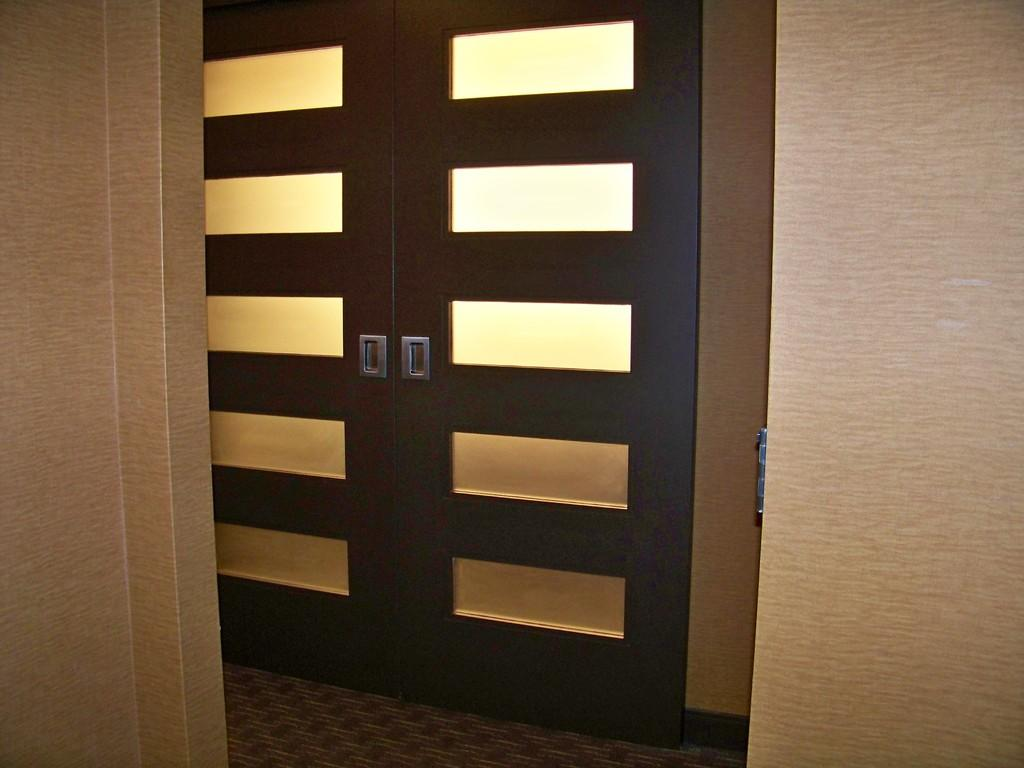handle: (404, 330, 434, 380), (360, 334, 386, 376)
